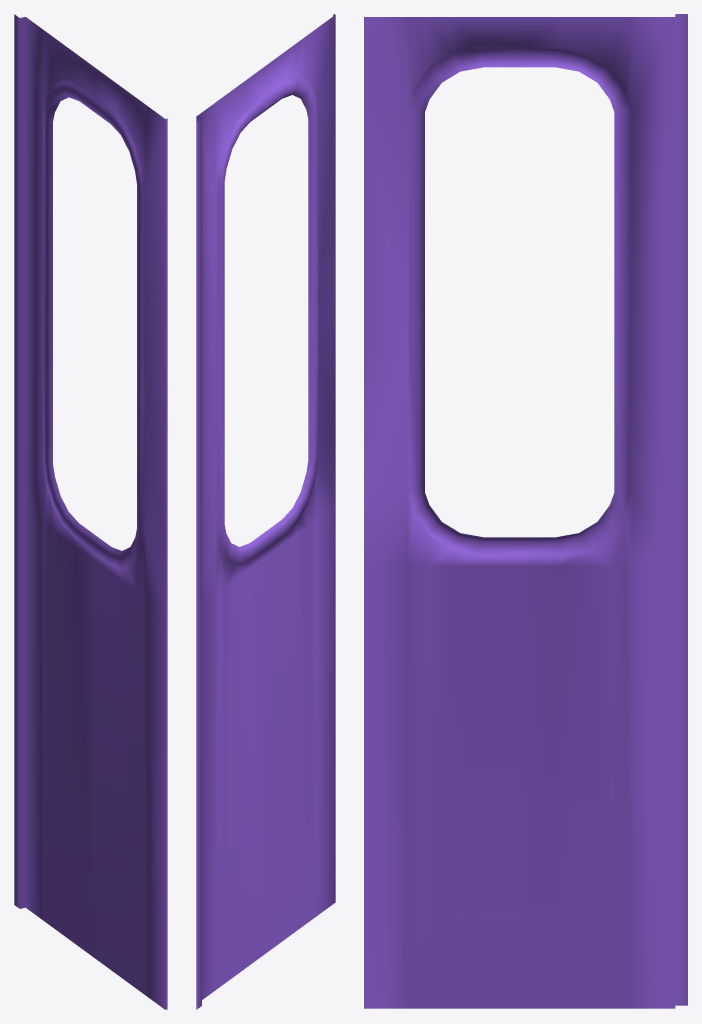
The model's file is SM_RearWagonDoor2.fbx.
3 views of the same model, side by side, from view 1: azimuth 30°, elevation 25°; view 2: azimuth 150°, elevation 25°; view 3: azimuth 270°, elevation 25° (orthographic). The views are drawn at different scales.
Parts seen in each view (by area): view 1: SM_RearWagonDoor2; view 2: SM_RearWagonDoor2; view 3: SM_RearWagonDoor2.
Boxes of the visible parts, x1,y1,x2,y2 form: SM_RearWagonDoor2: (14,14,167,1009); SM_RearWagonDoor2: (196,14,335,1009); SM_RearWagonDoor2: (364,14,687,1008).
Bounding box in the file's own units: 0.019 × 1.98 × 0.587.
